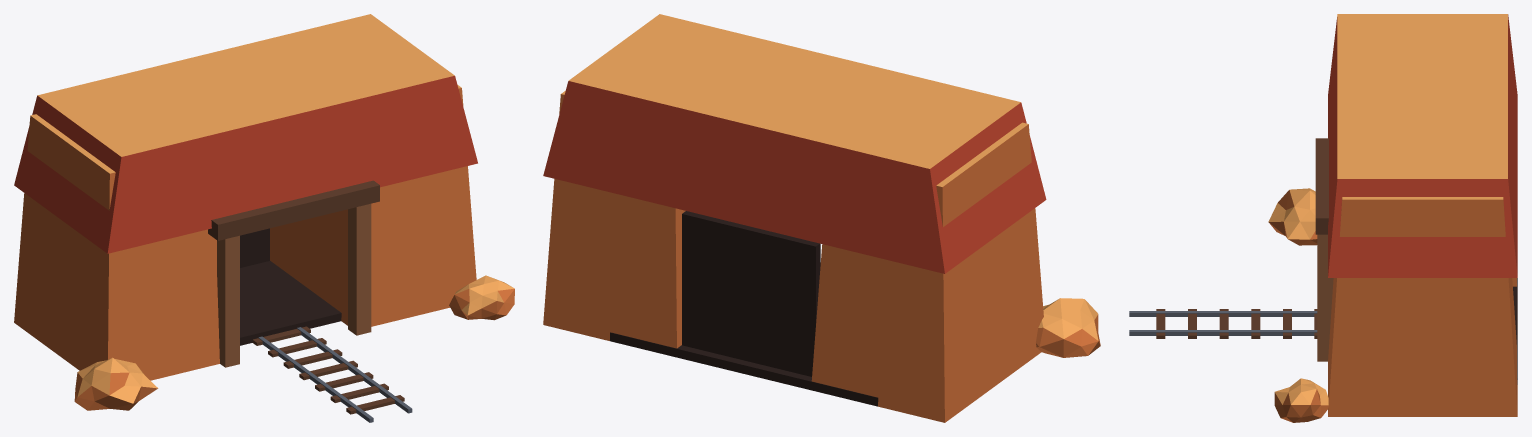
Rendered from CA_Entrada_Mina.obj.
3 renders of one model, left to right at view 1: azimuth 30°, elevation 25°; view 2: azimuth 150°, elevation 25°; view 3: azimuth 270°, elevation 25°, orthographic. The views are drawn at different scales.
Visible parts, largest first — view 1: CA_Entrada_Mina; view 2: CA_Entrada_Mina; view 3: CA_Entrada_Mina.
Boxes of the visible parts, x1=… form: CA_Entrada_Mina: x1=14, y1=14, x2=514, y2=422; CA_Entrada_Mina: x1=543, y1=14, x2=1100, y2=422; CA_Entrada_Mina: x1=1129, y1=14, x2=1517, y2=422.
Size of the model in its own units: 11.09 by 5.6 by 8.6.
